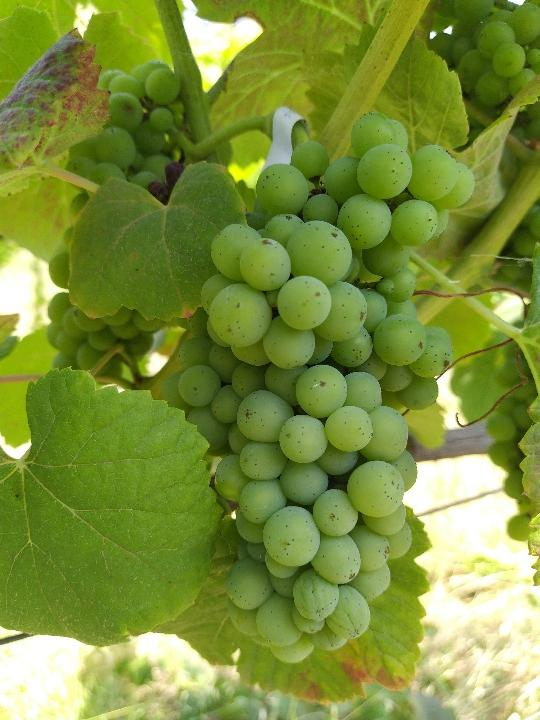grape: (174, 110, 473, 672)
